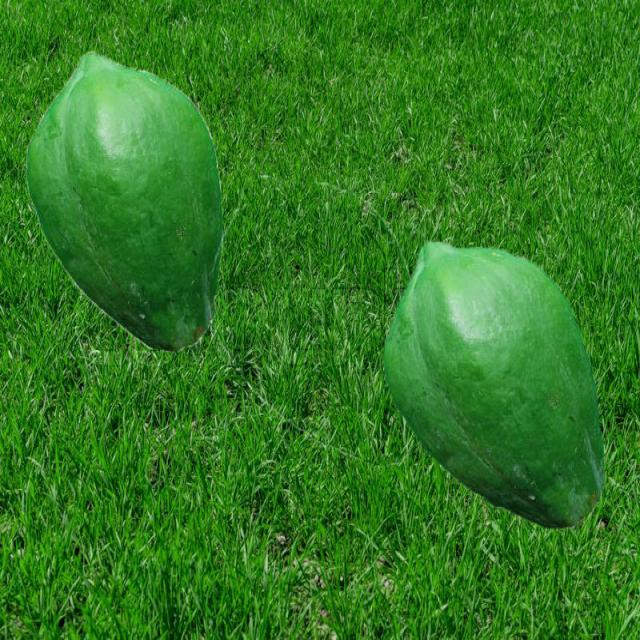Pepaya unrippen: (375, 230, 610, 554), (27, 56, 233, 357)
